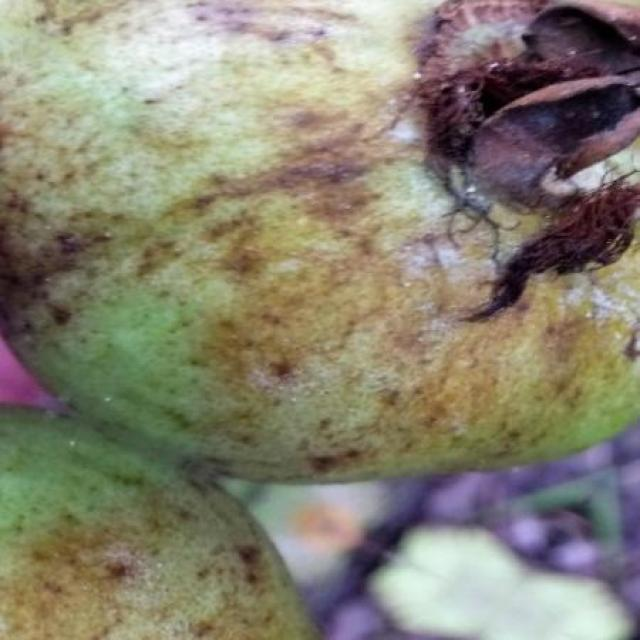Styler and Root: (0, 0, 640, 479), (0, 505, 244, 640)
